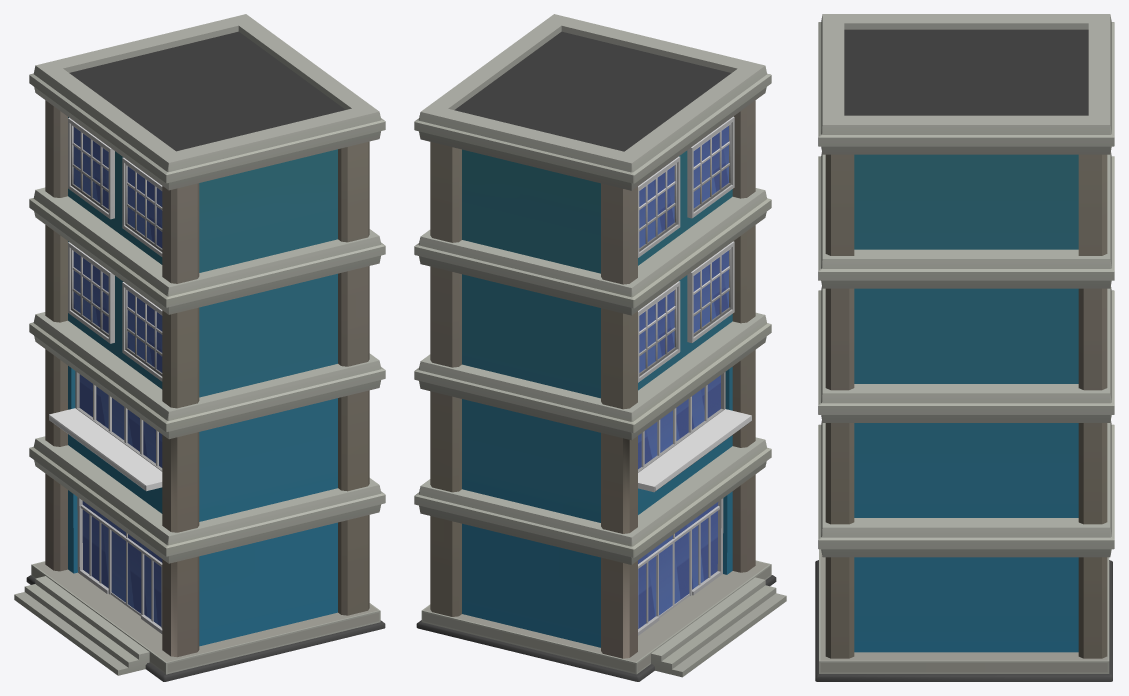
The model's file is Building_9_1_CC.fbx.
3 renders of one model, left to right at view 1: azimuth 30°, elevation 25°; view 2: azimuth 150°, elevation 25°; view 3: azimuth 270°, elevation 25°, orthographic. The views are drawn at different scales.
Parts seen in each view (by area): view 1: Building_9_1_CC; view 2: Building_9_1_CC; view 3: Building_9_1_CC.
Boxes of the visible parts, x1,y1,x2,y2 form: Building_9_1_CC: [14, 14, 385, 681]; Building_9_1_CC: [414, 14, 786, 681]; Building_9_1_CC: [815, 14, 1114, 681].
Bounding box in the file's own units: 947 × 1855 × 906.
